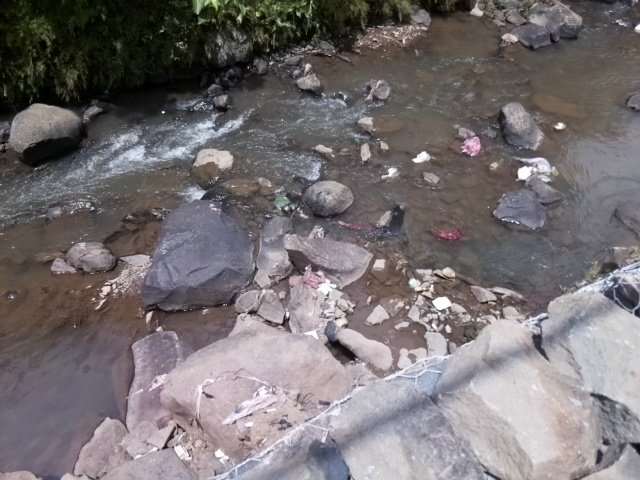Sampah_Plastik: (295, 268, 329, 287), (529, 154, 557, 175), (460, 136, 482, 157), (434, 227, 465, 241)
Sampah_Styrofoam: (432, 296, 455, 310), (410, 150, 432, 164), (517, 166, 533, 180)
